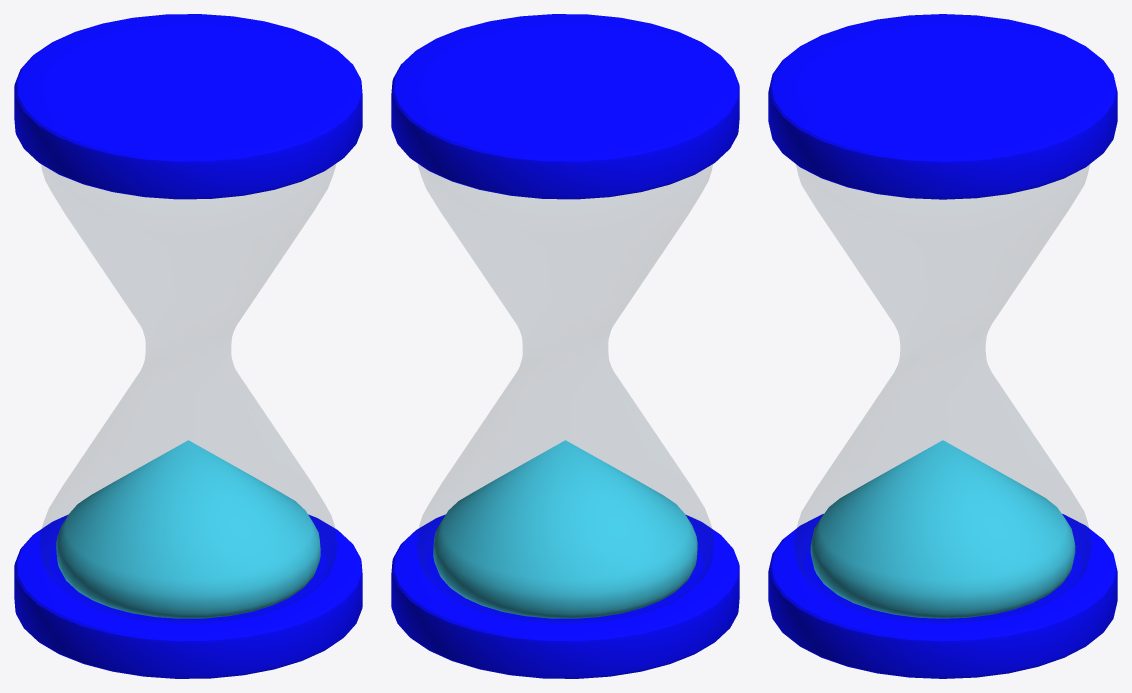
The model's file is Experiencia.FBX.
The picture shows the model from 3 angles, left to right: view 1: azimuth 30°, elevation 25°; view 2: azimuth 150°, elevation 25°; view 3: azimuth 270°, elevation 25°; orthographic projection.
Visible parts, largest first — view 1: Object003; view 2: Object003; view 3: Object003.
Boxes of the visible parts, x1=… form: Object003: x1=14, y1=14, x2=362, y2=678; Object003: x1=391, y1=14, x2=739, y2=678; Object003: x1=768, y1=14, x2=1117, y2=678.
Size of the model in its own units: 7.95 by 13.09 by 7.95.
